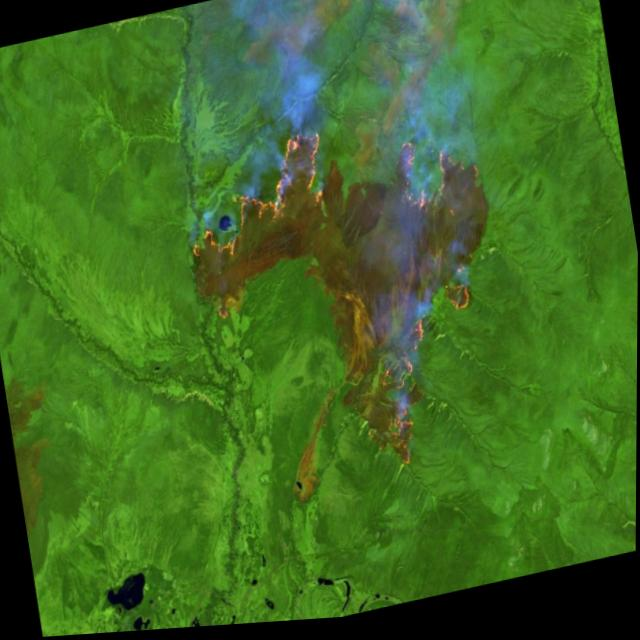fire: (170, 90, 525, 518)
